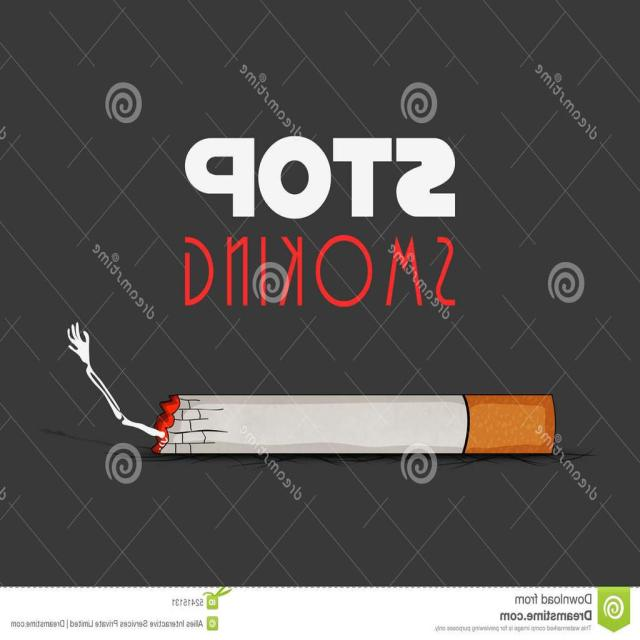smoking: (67, 321, 557, 459)
